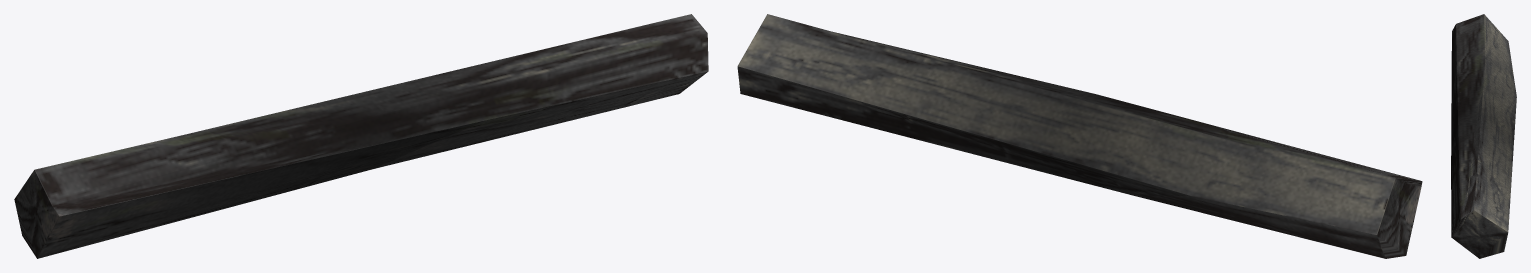
Rendered from Woodlog.obj.
3 renders of one model, left to right at view 1: azimuth 30°, elevation 25°; view 2: azimuth 150°, elevation 25°; view 3: azimuth 270°, elevation 25°, orthographic. The views are drawn at different scales.
Visible parts, largest first — view 1: Old_Woodlog_Cube.010; view 2: Old_Woodlog_Cube.010; view 3: Old_Woodlog_Cube.010.
Boxes of the visible parts, x1,y1,x2,y2 form: Old_Woodlog_Cube.010: (14, 14, 708, 258); Old_Woodlog_Cube.010: (737, 14, 1422, 258); Old_Woodlog_Cube.010: (1451, 14, 1516, 258).
Size of the model in its own units: 2 by 0.2504 by 0.2754.
